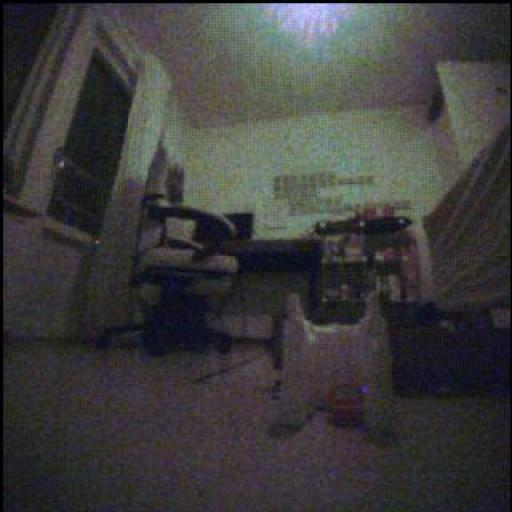basket: (328, 385, 365, 428)
